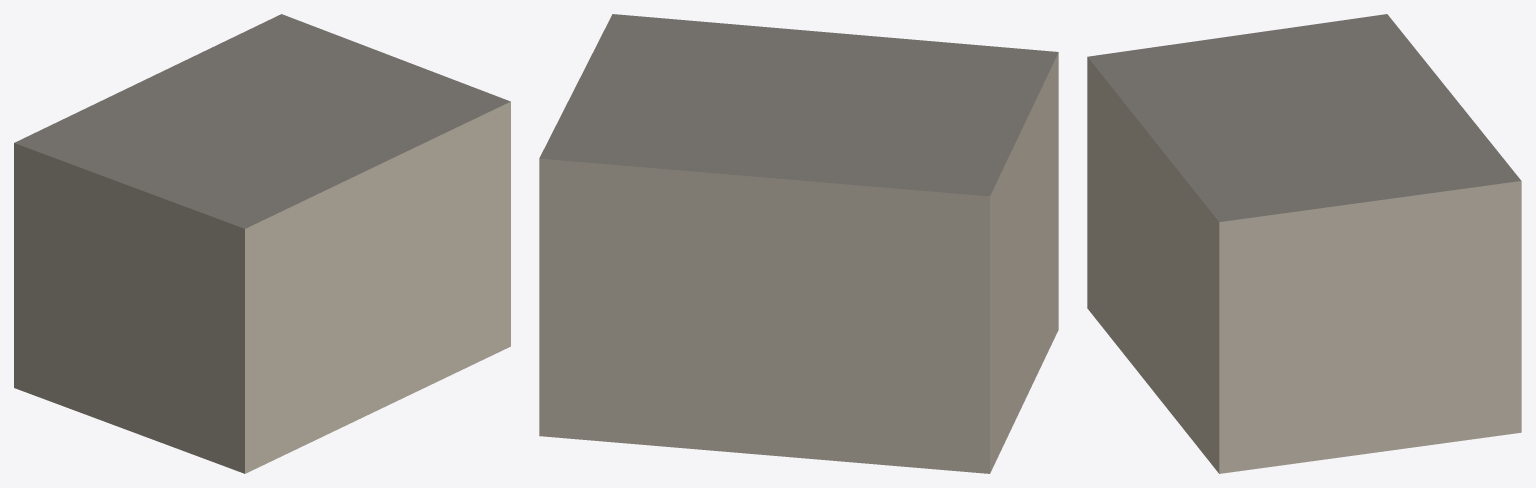
3 renders of one model, left to right at view 1: azimuth 30°, elevation 25°; view 2: azimuth 150°, elevation 25°; view 3: azimuth 270°, elevation 25°, orthographic. The views are drawn at different scales.
Parts seen in each view (by area): view 1: HP-w1197059459; view 2: HP-w1197059459; view 3: HP-w1197059459.
Boxes of the visible parts, box(x1,y1,x2,y2) form: HP-w1197059459: box(14, 14, 510, 473); HP-w1197059459: box(539, 14, 1058, 473); HP-w1197059459: box(1087, 14, 1521, 473).
Bounding box in the file's own units: 31.91 × 18 × 28.12.
